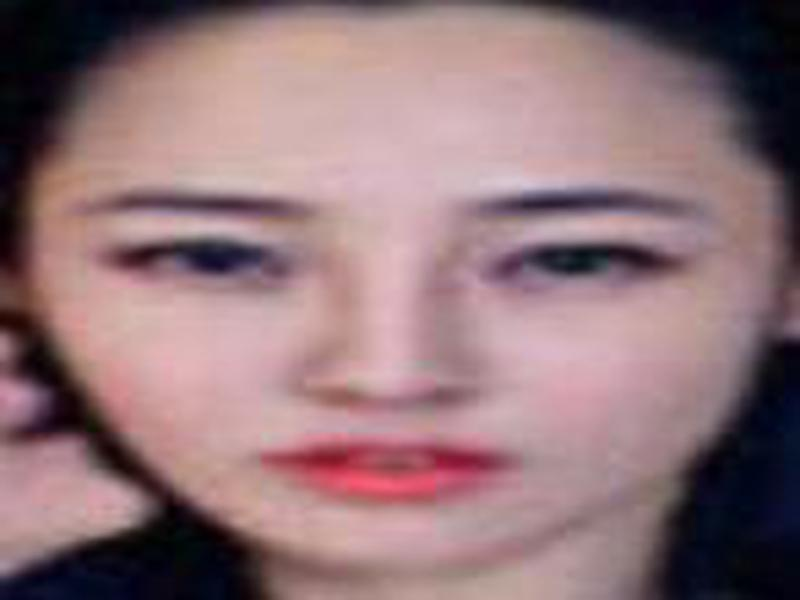without_mask: (48, 31, 753, 567)
